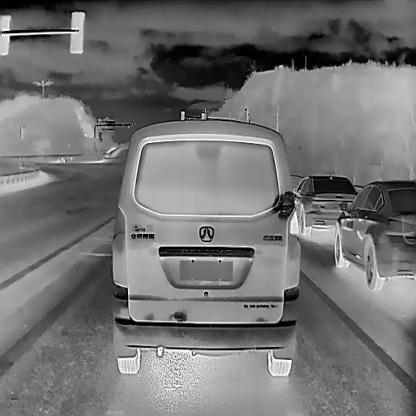car: (109, 115, 304, 380), (333, 176, 415, 291), (290, 172, 358, 238)
